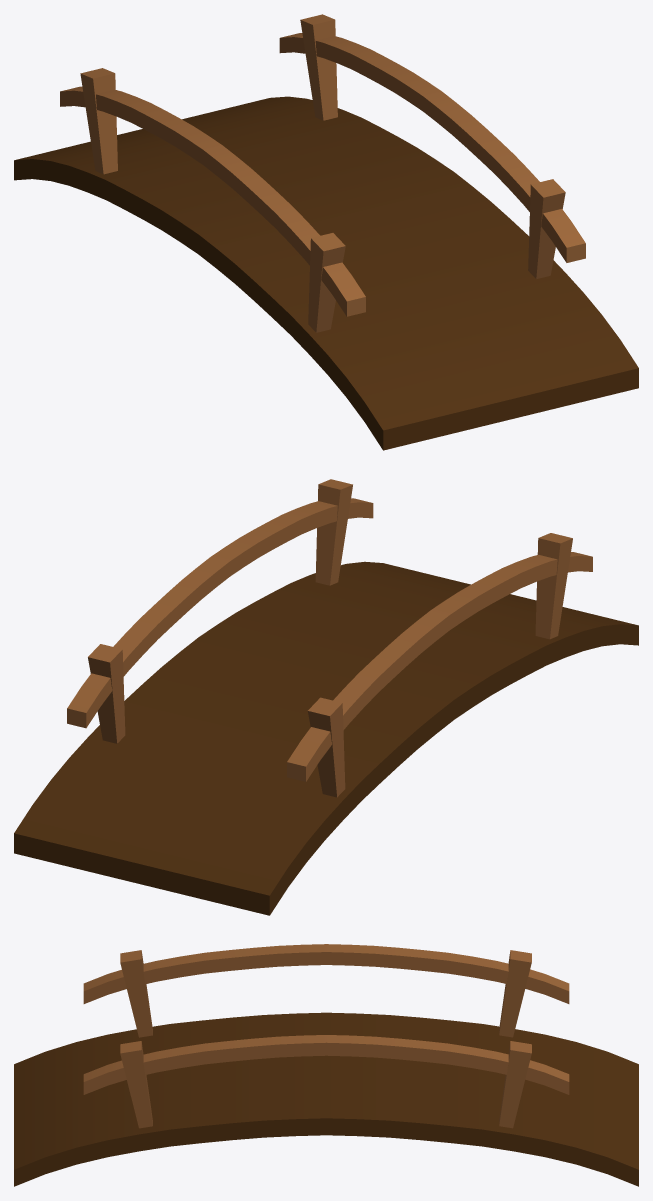
File: Bridge.fbx
3 views of the same model, one above another, from view 1: azimuth 30°, elevation 25°; view 2: azimuth 150°, elevation 25°; view 3: azimuth 270°, elevation 25° (orthographic). The views are drawn at different scales.
Visible parts, largest first — view 1: pCube1, pCube3, pCube2, pCube6, pCube4, pCube5, pCube7; view 2: pCube1, pCube3, pCube2, pCube5, pCube7, pCube4, pCube6; view 3: pCube1, pCube2, pCube3, pCube7, pCube5, pCube6, pCube4.
Boxes of the visible parts, box(x1,y1,x2,y2) form: pCube1: box(14, 96, 638, 450); pCube3: box(279, 33, 585, 262); pCube2: box(60, 86, 365, 316); pCube6: box(300, 14, 337, 120); pCube4: box(80, 68, 117, 174); pCube5: box(308, 233, 345, 332); pCube7: box(528, 179, 565, 278); pCube1: box(14, 561, 638, 915); pCube3: box(67, 498, 373, 728); pCube2: box(287, 552, 592, 781); pCube5: box(535, 533, 572, 639); pCube7: box(315, 479, 352, 585); pCube4: box(308, 697, 345, 797); pCube6: box(88, 644, 125, 743); pCube1: box(14, 1012, 638, 1186); pCube2: box(83, 944, 569, 1003); pCube3: box(83, 1035, 569, 1094); pCube7: box(120, 1041, 152, 1128); pCube5: box(120, 950, 152, 1037); pCube6: box(499, 1041, 531, 1128); pCube4: box(499, 950, 531, 1037).
Size of the model in its own units: 4 by 2.46 by 10.
